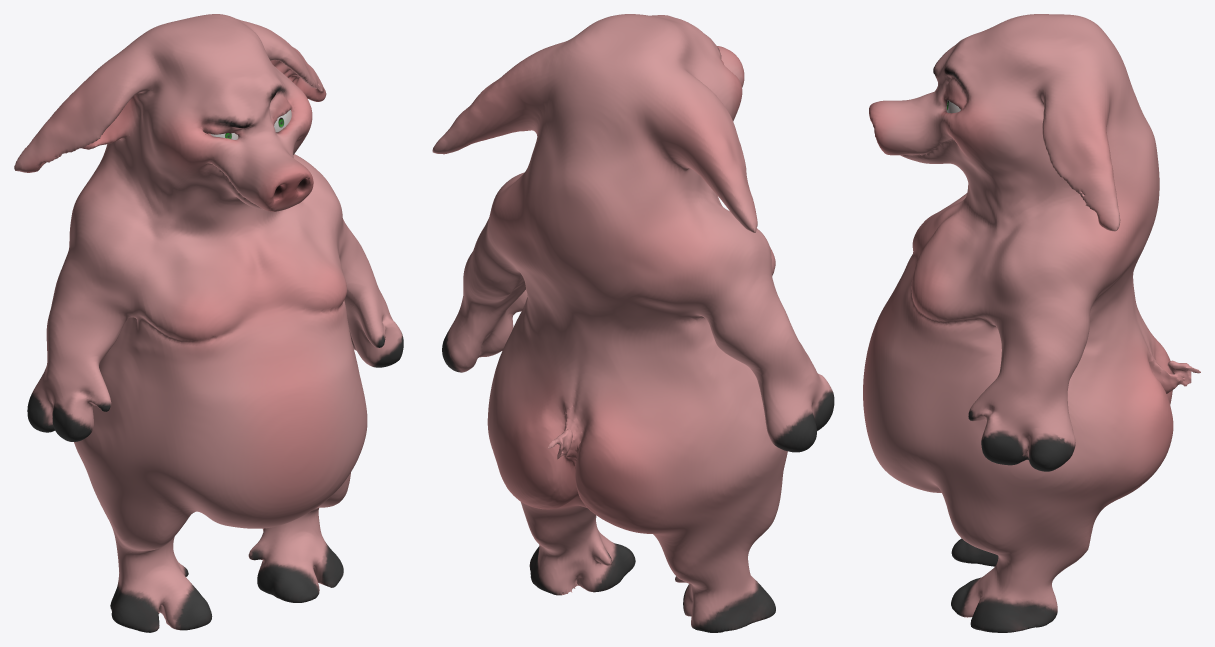
The model's file is big_brother_pig.glb.
3 views of the same model, side by side, from view 1: azimuth 30°, elevation 25°; view 2: azimuth 150°, elevation 25°; view 3: azimuth 270°, elevation 25° (orthographic). The views are drawn at different scales.
Visible parts, largest first — view 1: Geode; view 2: Geode; view 3: Geode.
Boxes of the visible parts, x1=… form: Geode: x1=14, y1=14, x2=403, y2=632; Geode: x1=432, y1=14, x2=834, y2=632; Geode: x1=863, y1=14, x2=1200, y2=632.
Bounding box in the file's own units: 78.33 × 118 × 64.71.
